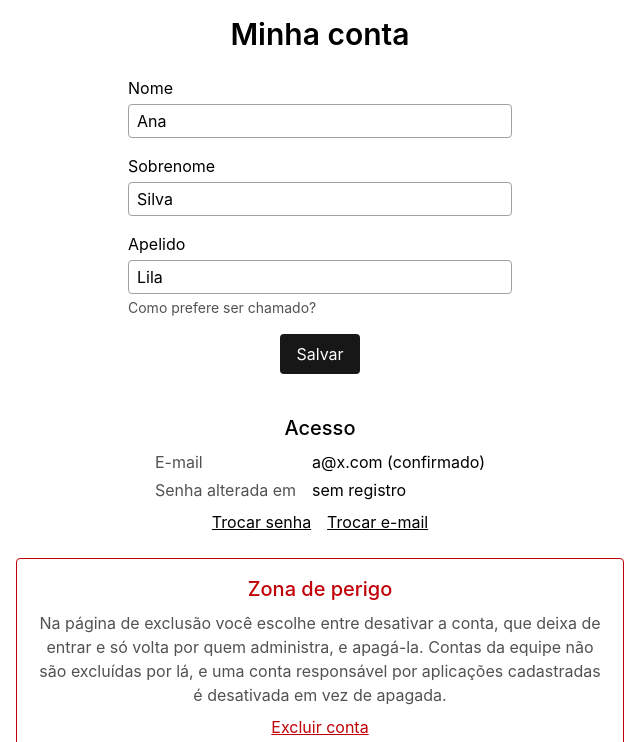
Test: Conta: formulário › T-04) editar só o Nome envia só o Nome no PATCH
Expected: the heading "Minha conta" is shown, [230,16,410,52]
Replace the text in the field labelled "Nome" with "Nova" at (320, 121), box [128,104,512,138]
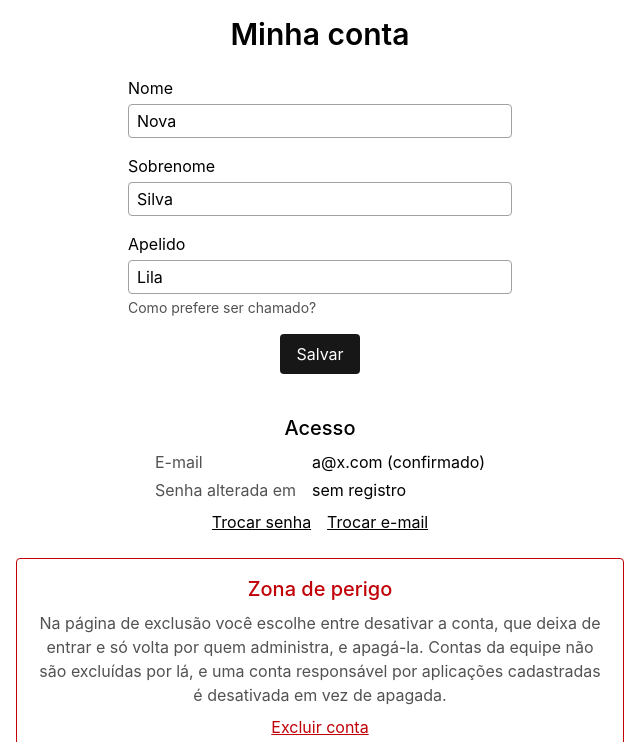
Click the button "Salvar" at (320, 354), box [280,334,360,374]
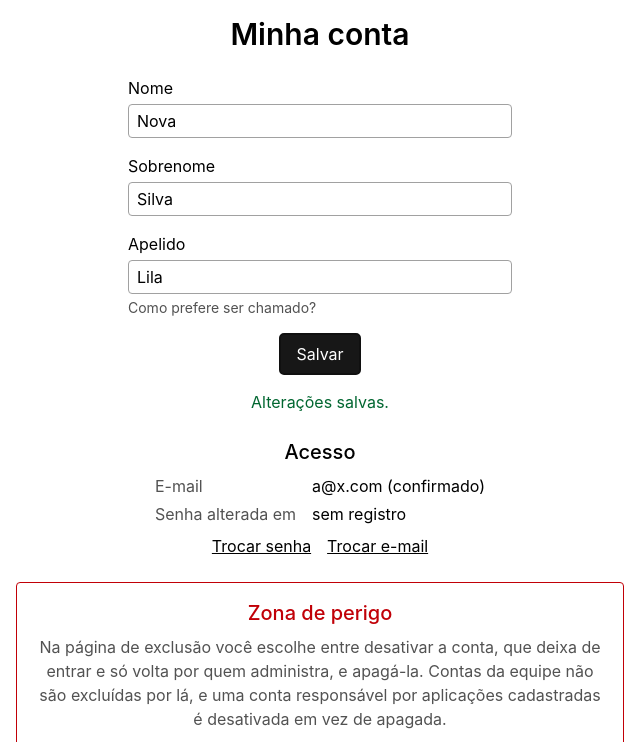
Expected: the text "Alterações salvas." is shown, [251,392,389,412]
